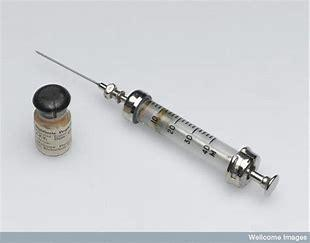Syringe: (30, 45, 286, 201), (27, 78, 76, 164)
